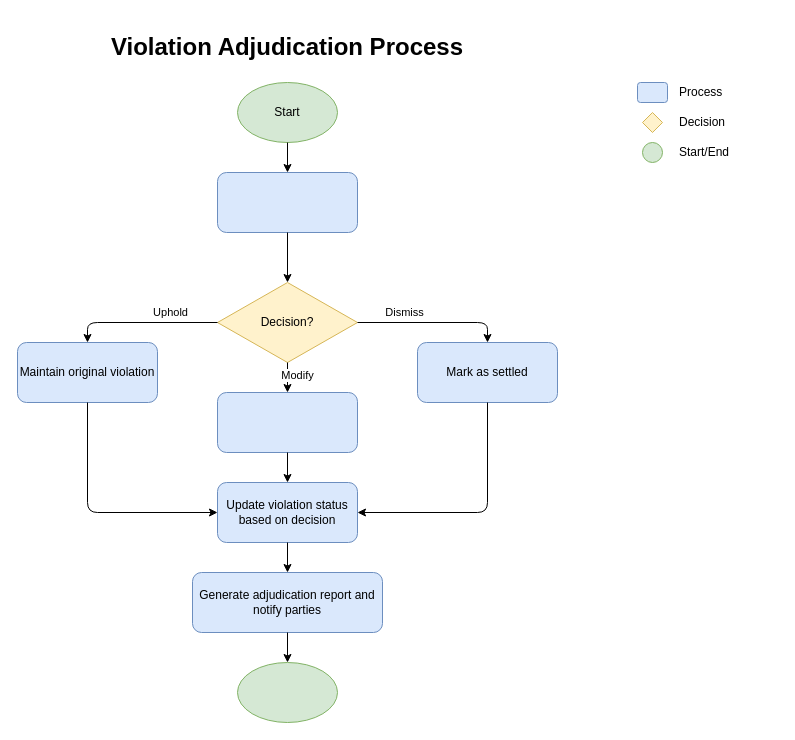
Some shapes in this 795 by 740 pixel diagram are drawn without their labels. Here are the shapes that lost their labels. From the top down, the centre of each, then its label:
At (x=287, y=202): "Conduct adjudication hearing".
At (x=287, y=422): "Modify violation details or fine amount".
At (x=287, y=692): "End: Adjudication Complete".
